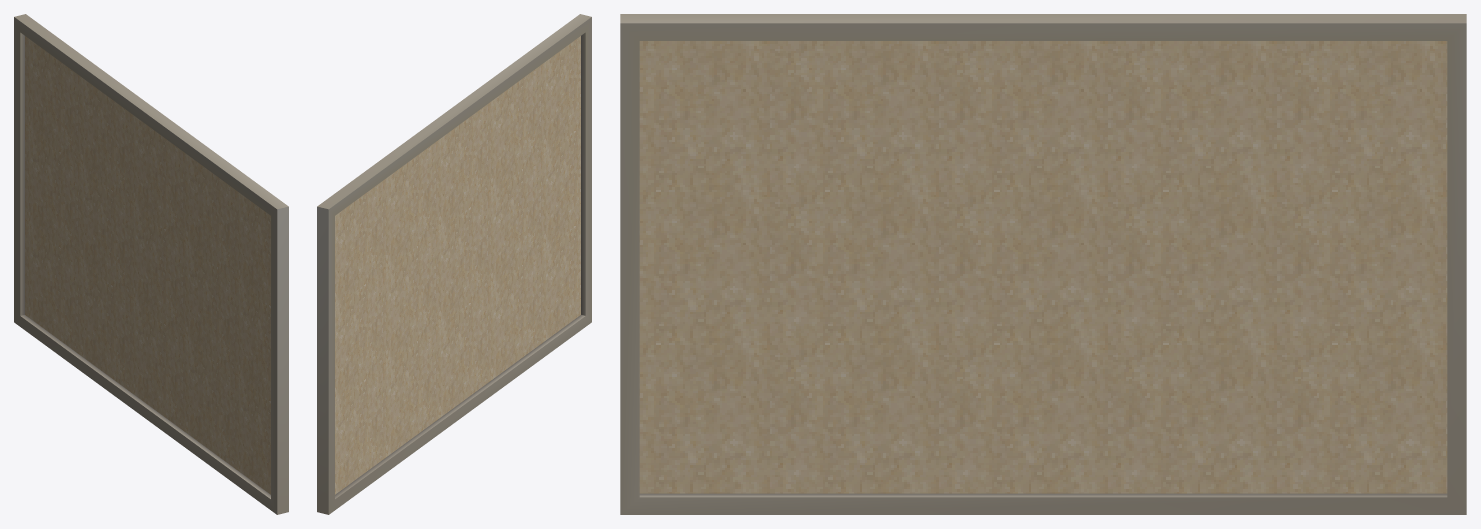
The model's file is tutikabe_4jyo_01.fbx.
3 renders of one model, left to right at view 1: azimuth 30°, elevation 25°; view 2: azimuth 150°, elevation 25°; view 3: azimuth 270°, elevation 25°, orthographic. The views are drawn at different scales.
Visible parts, largest first — view 1: tutikabe_4jyo_01; view 2: tutikabe_4jyo_01; view 3: tutikabe_4jyo_01.
Part boxes in pixels (x1,y1,x2,y2): tutikabe_4jyo_01: [14, 14, 288, 514]; tutikabe_4jyo_01: [317, 14, 591, 514]; tutikabe_4jyo_01: [620, 14, 1466, 514].
Bounding box in the file's own units: 20 × 500 × 780.
